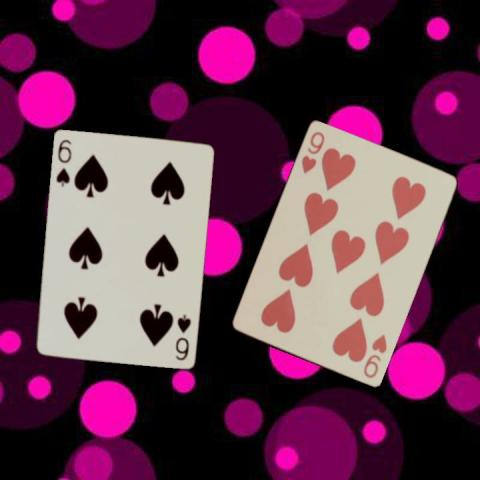6s: (53, 136, 73, 187), (172, 312, 192, 362)
9h: (360, 331, 388, 380), (298, 129, 326, 176)
